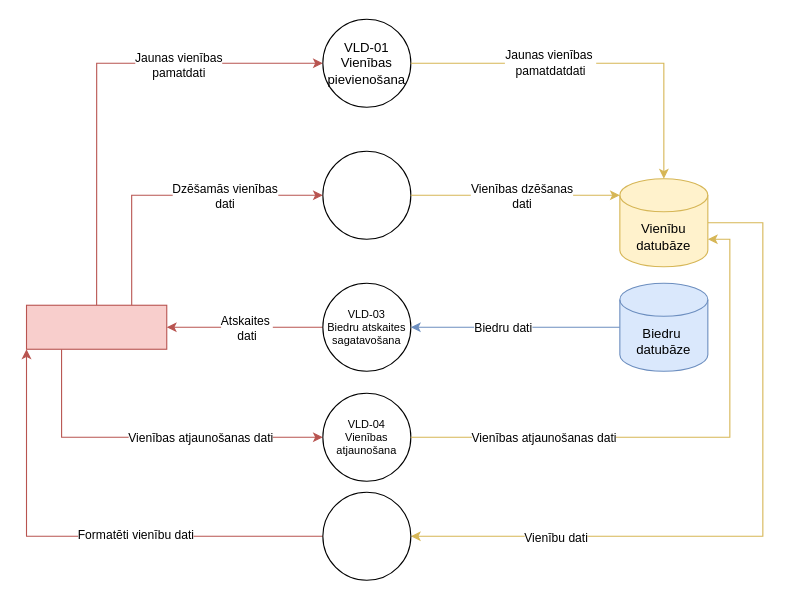
Image size: 792x600. Some labels were removed from this diagram. Each missing label, with the box of its shape:
Administrators: (25, 304, 167, 349)
VLD-02 Vienības nestingrā dzēšana: (322, 150, 411, 239)
VLD-05 Organizācijas vienību apskatīšana: (322, 491, 411, 580)
